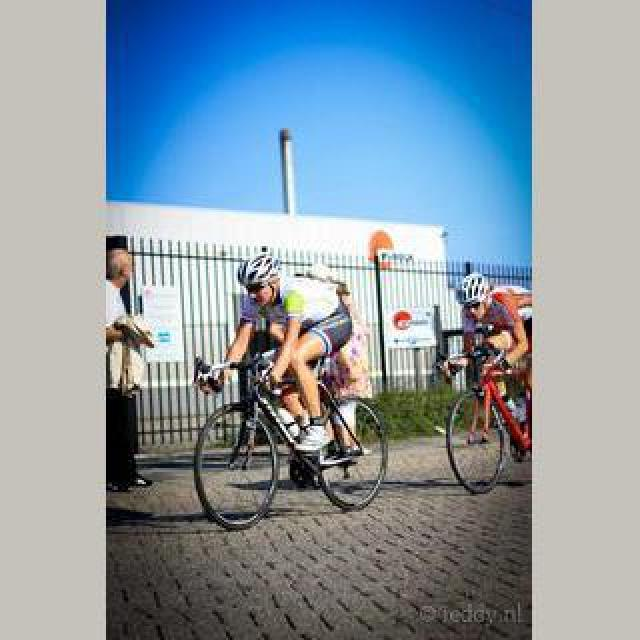MC-Bike: (218, 256, 356, 466), (454, 272, 530, 464), (106, 238, 158, 496)
Person: (190, 342, 388, 528), (440, 334, 530, 496)
